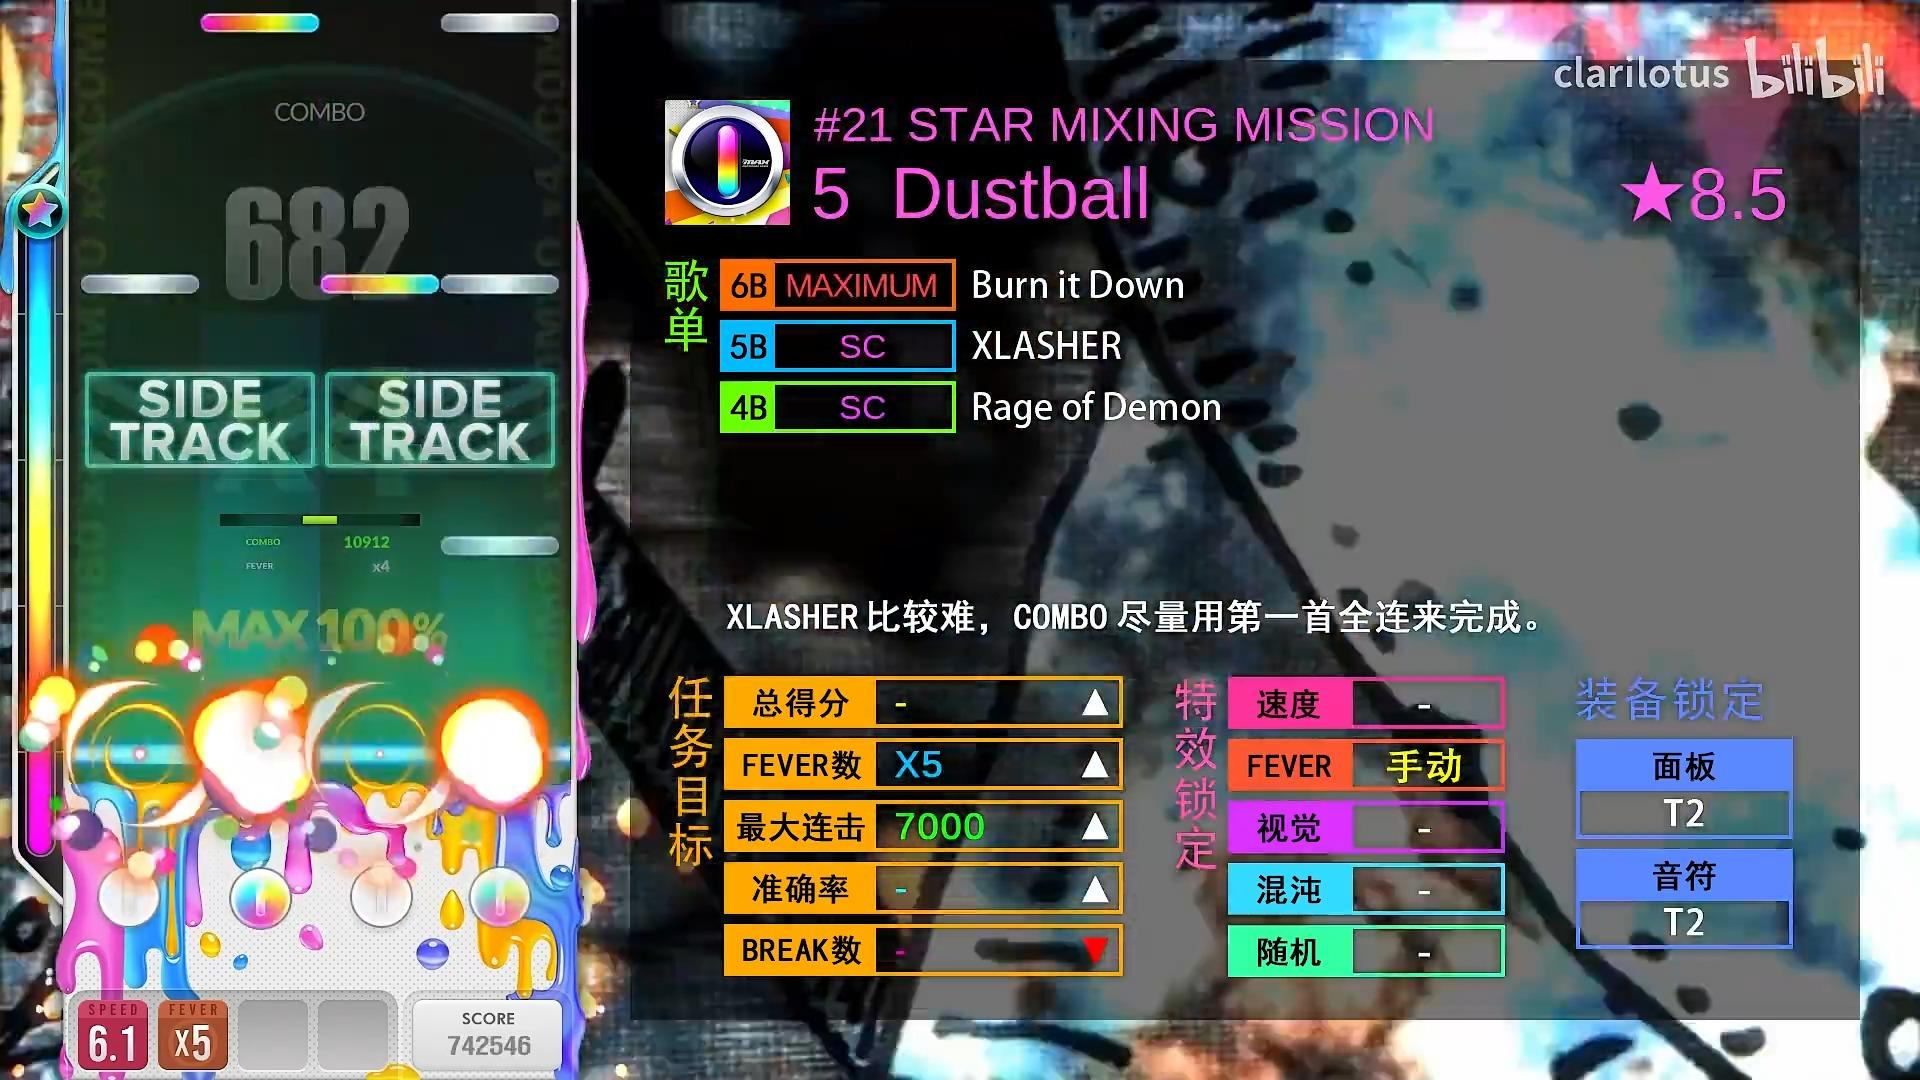note: (440, 12, 559, 34), (440, 535, 559, 558), (80, 274, 200, 295), (320, 274, 440, 295), (440, 274, 559, 295), (200, 13, 319, 33)
